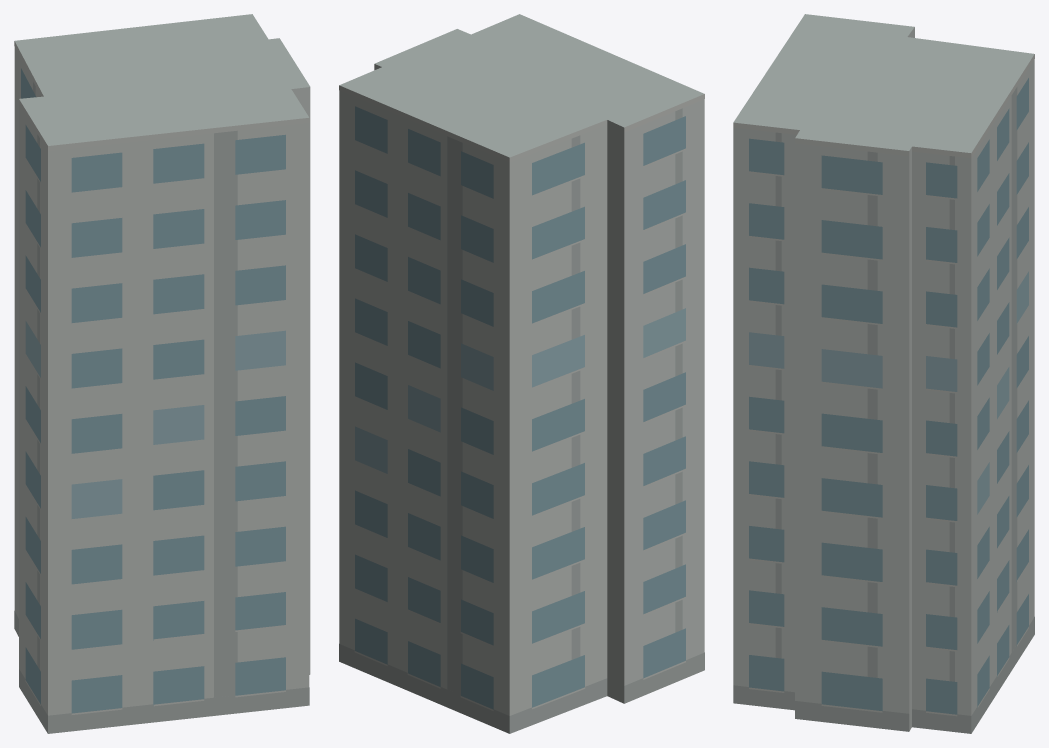
Rendered from residential-67150701-b287-4b13-bd36-5630f0f247f8.glb.
The picture shows the model from 3 angles, left to right: view 1: azimuth 30°, elevation 25°; view 2: azimuth 150°, elevation 25°; view 3: azimuth 270°, elevation 25°; orthographic projection.
Parts seen in each view (by area): view 1: residential-67150701-b287-4b13-bd36-5630f0f247f8.tmp; view 2: residential-67150701-b287-4b13-bd36-5630f0f247f8.tmp; view 3: residential-67150701-b287-4b13-bd36-5630f0f247f8.tmp.
Boxes of the visible parts, <box> form: residential-67150701-b287-4b13-bd36-5630f0f247f8.tmp: <box>14,14,310,733</box>; residential-67150701-b287-4b13-bd36-5630f0f247f8.tmp: <box>339,14,704,733</box>; residential-67150701-b287-4b13-bd36-5630f0f247f8.tmp: <box>733,14,1034,733</box>.
Size of the model in its own units: 14.12 by 27.45 by 12.92.
